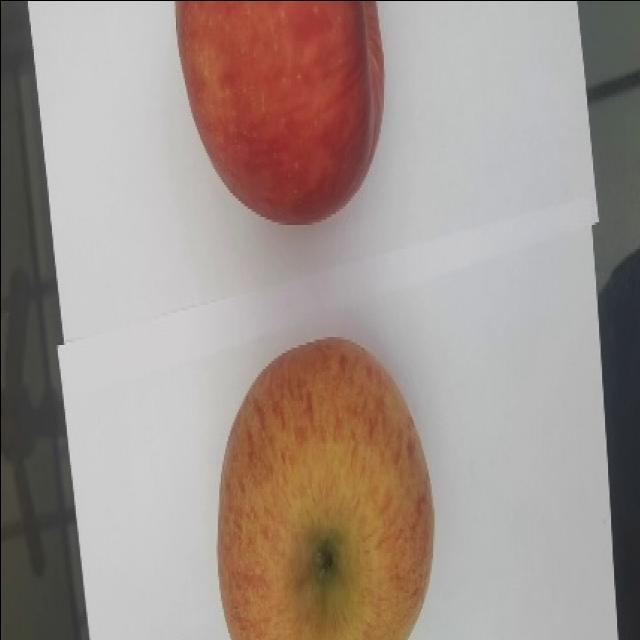Apple: (216, 336, 434, 639), (174, 0, 385, 225)
